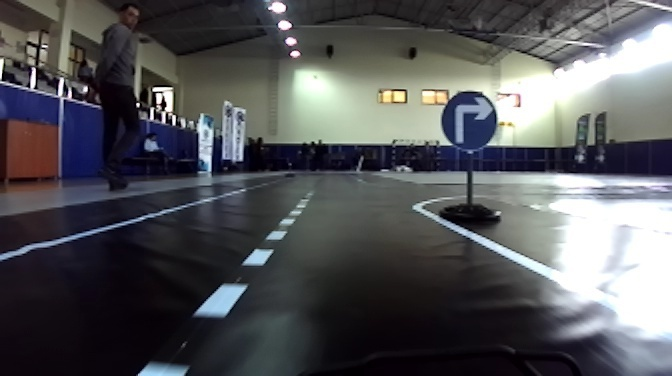saga_donus: (440, 91, 498, 150)
